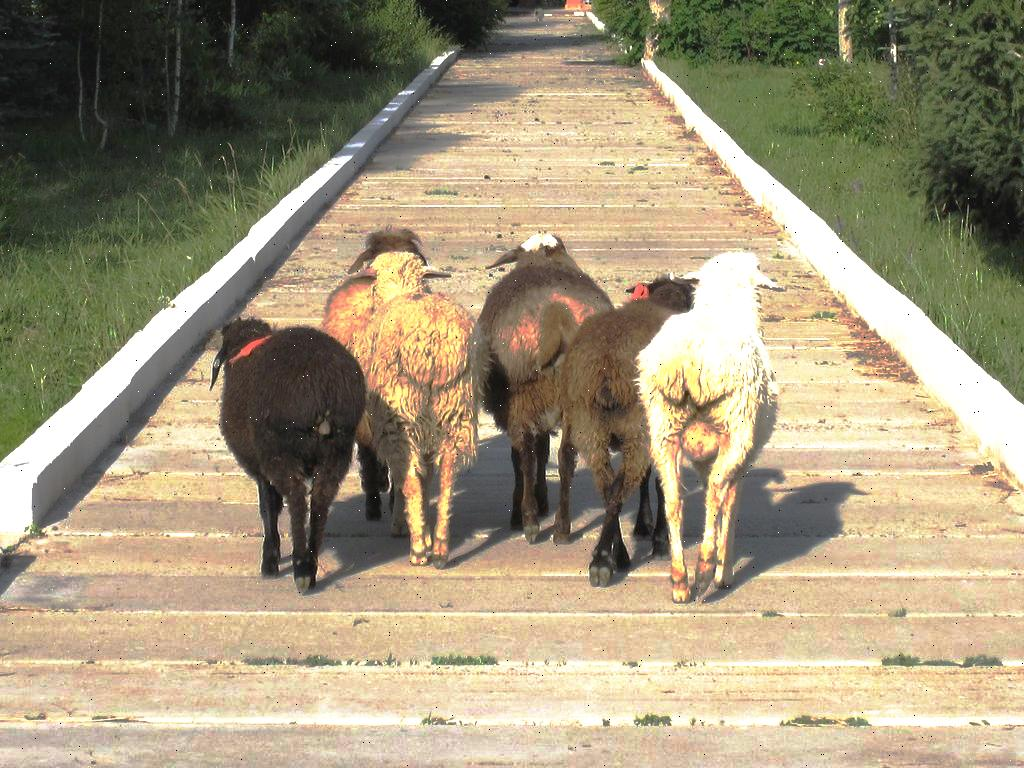Sheep: (330, 225, 480, 573), (554, 255, 702, 594), (635, 250, 781, 590), (474, 214, 618, 556), (206, 305, 355, 606)
